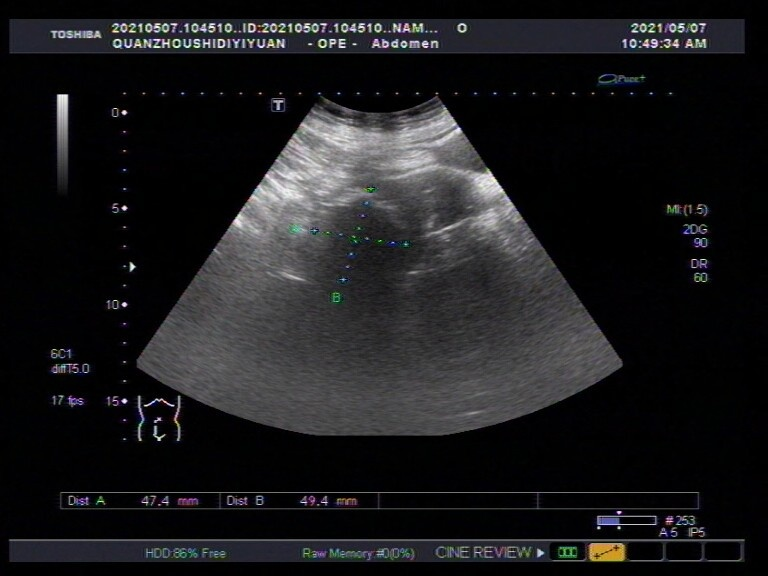肌瘤: (323, 203, 403, 278)
